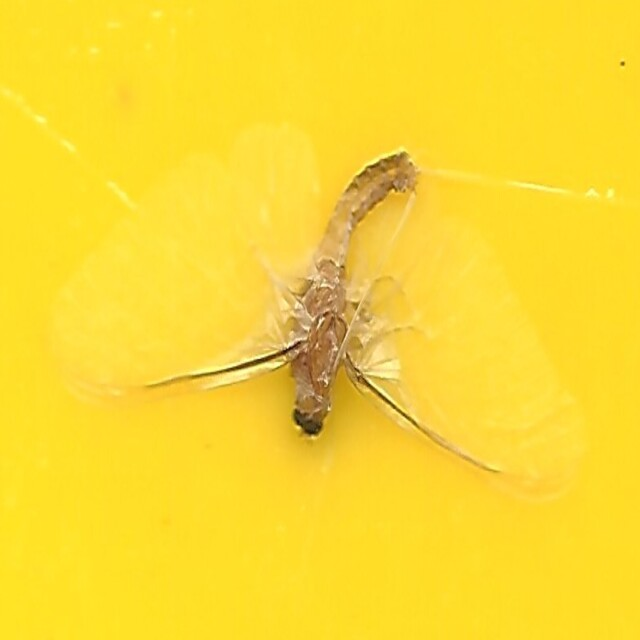Ephemeroptera: (81, 147, 559, 493)
